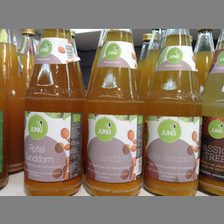juice: (83, 29, 147, 195), (22, 30, 84, 196), (145, 29, 201, 195)
